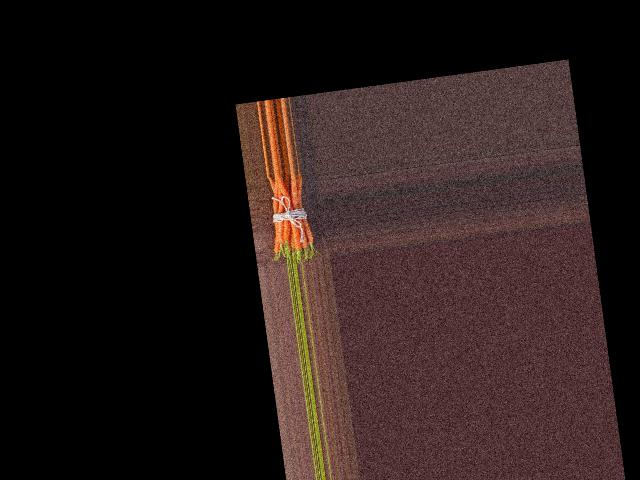carrot: (296, 172, 317, 252)
